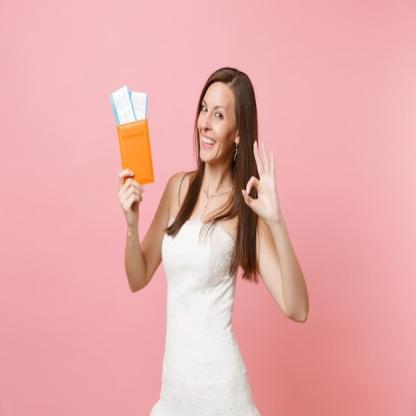ok: (238, 138, 284, 228)
